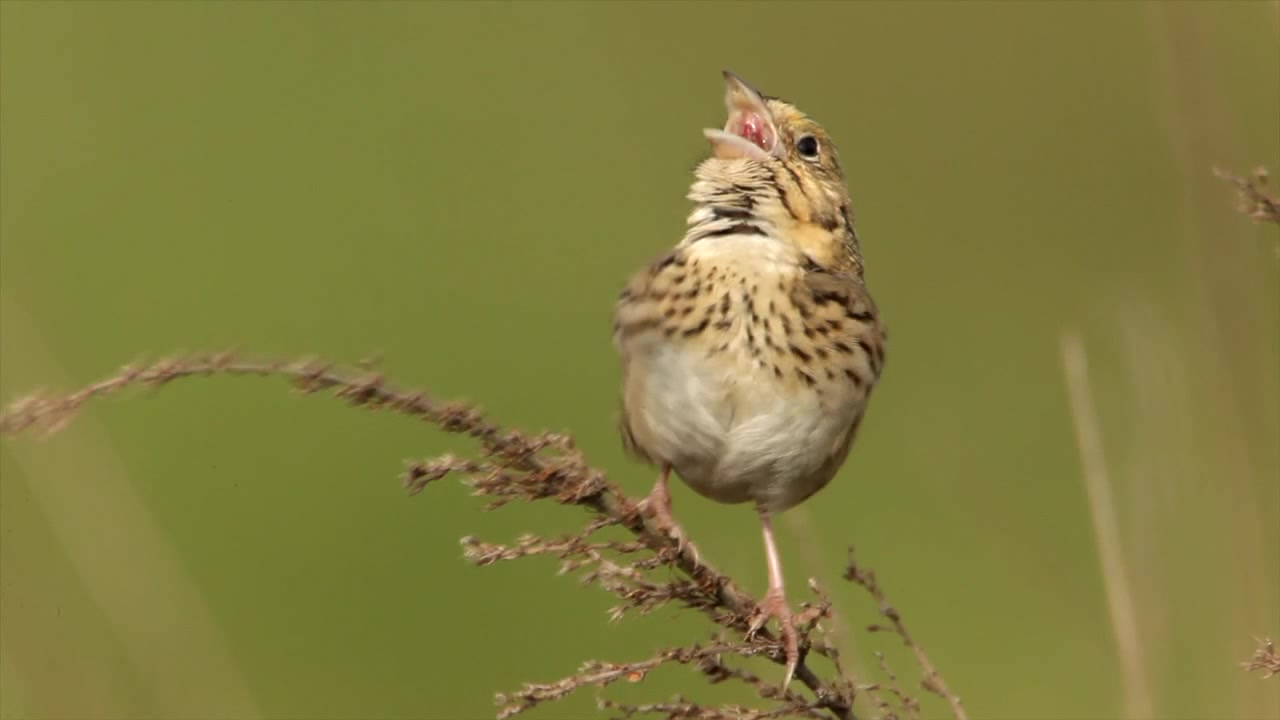bird: (609, 68, 887, 694)
